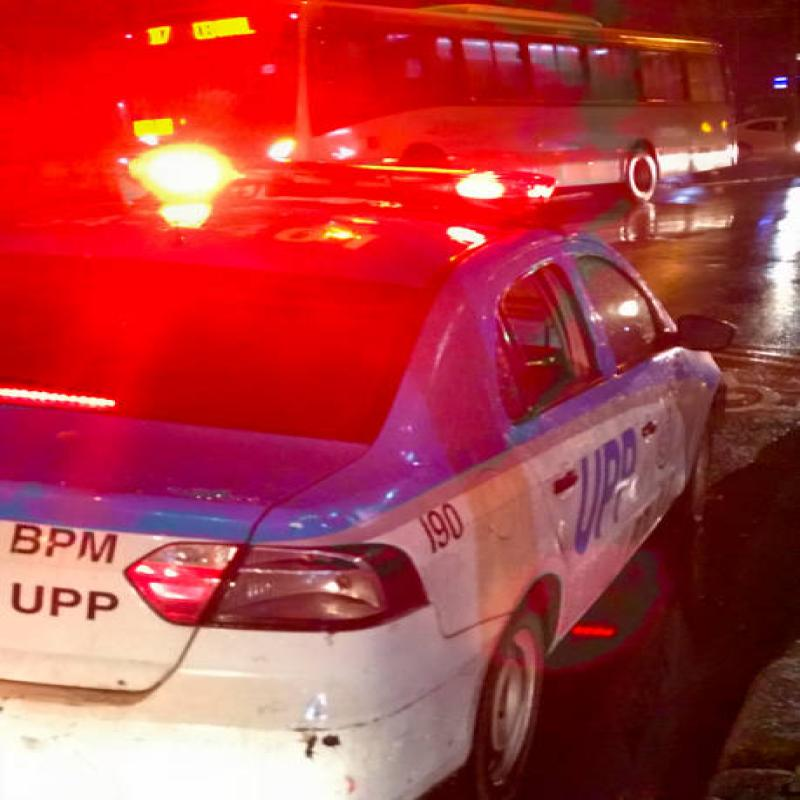AmbulanceSiren: (133, 124, 614, 238)
